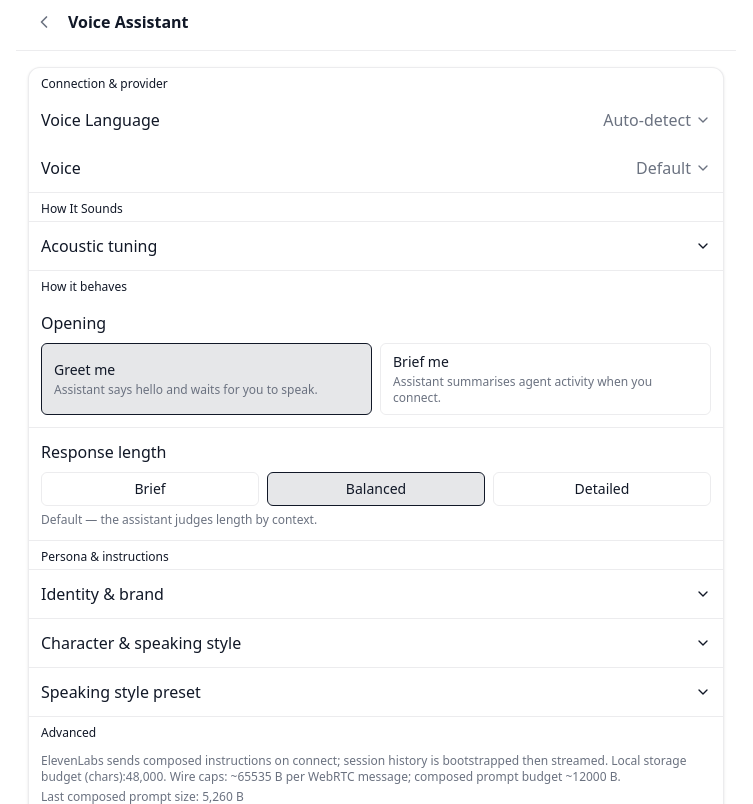
Test: SettingsPage › shows a play button for voices with a previewUrl
What coordinates should you click on to do the following:
click the button "Voice Default"
I would click on:
 (61, 168)
Its box is x1=29 y1=144 x2=723 y2=192.
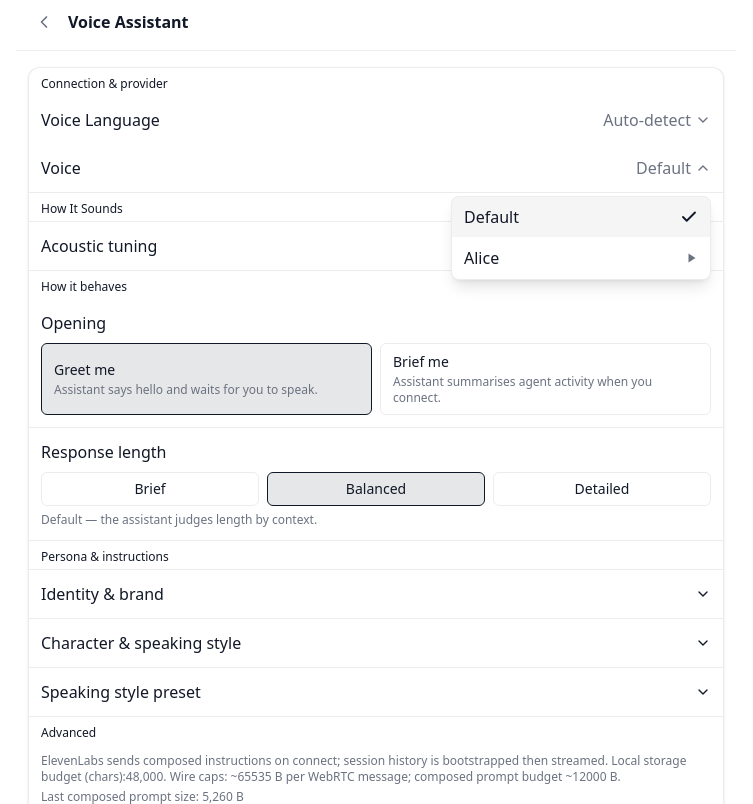
Now the text "Alice" is shown, box x1=464 y1=247 x2=499 y2=269
Now the button named "Preview voice" is enabled, box x1=674 y1=244 x2=710 y2=272
